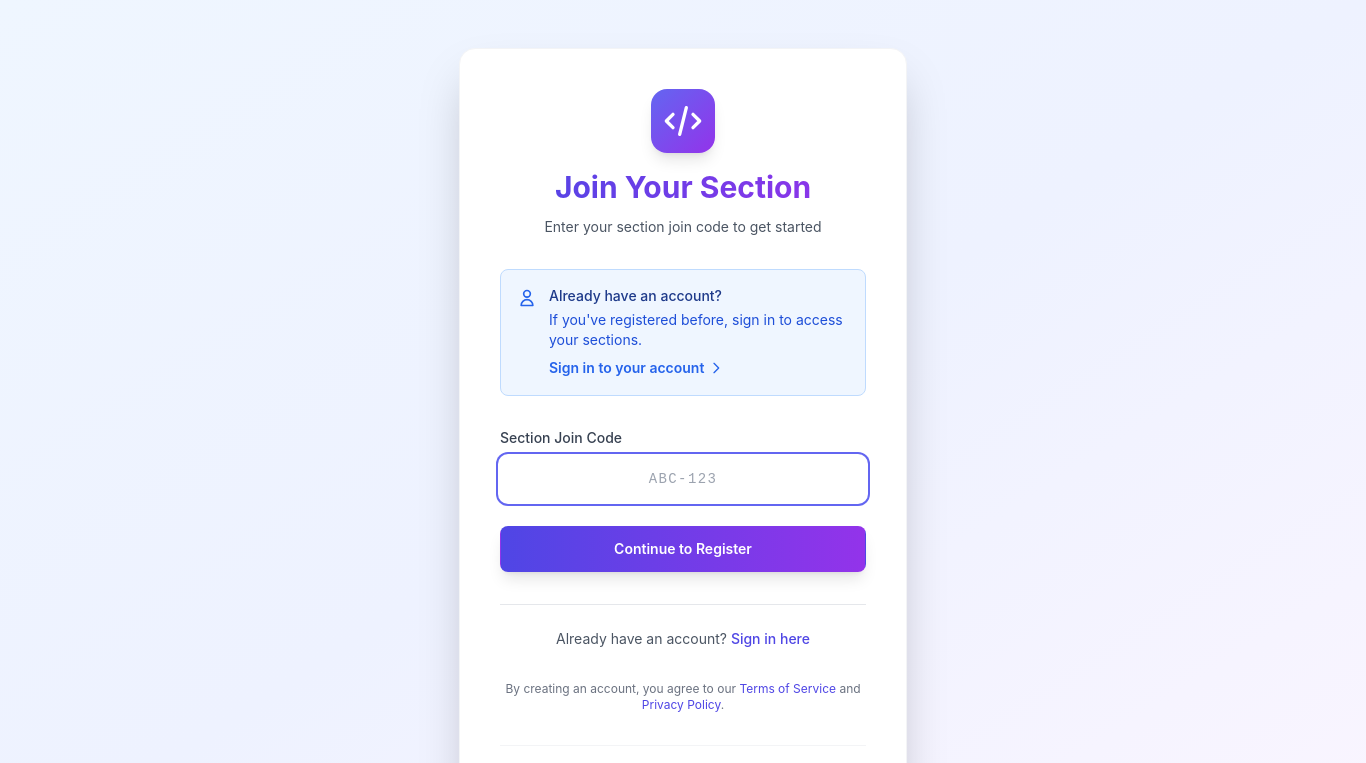
Test: StudentRegistrationPage › Code Validation › shows error for invalid code
Type "ABC123" into the field with placeholder "ABC-123". click: (683, 479)
box: [500,456,866,502]
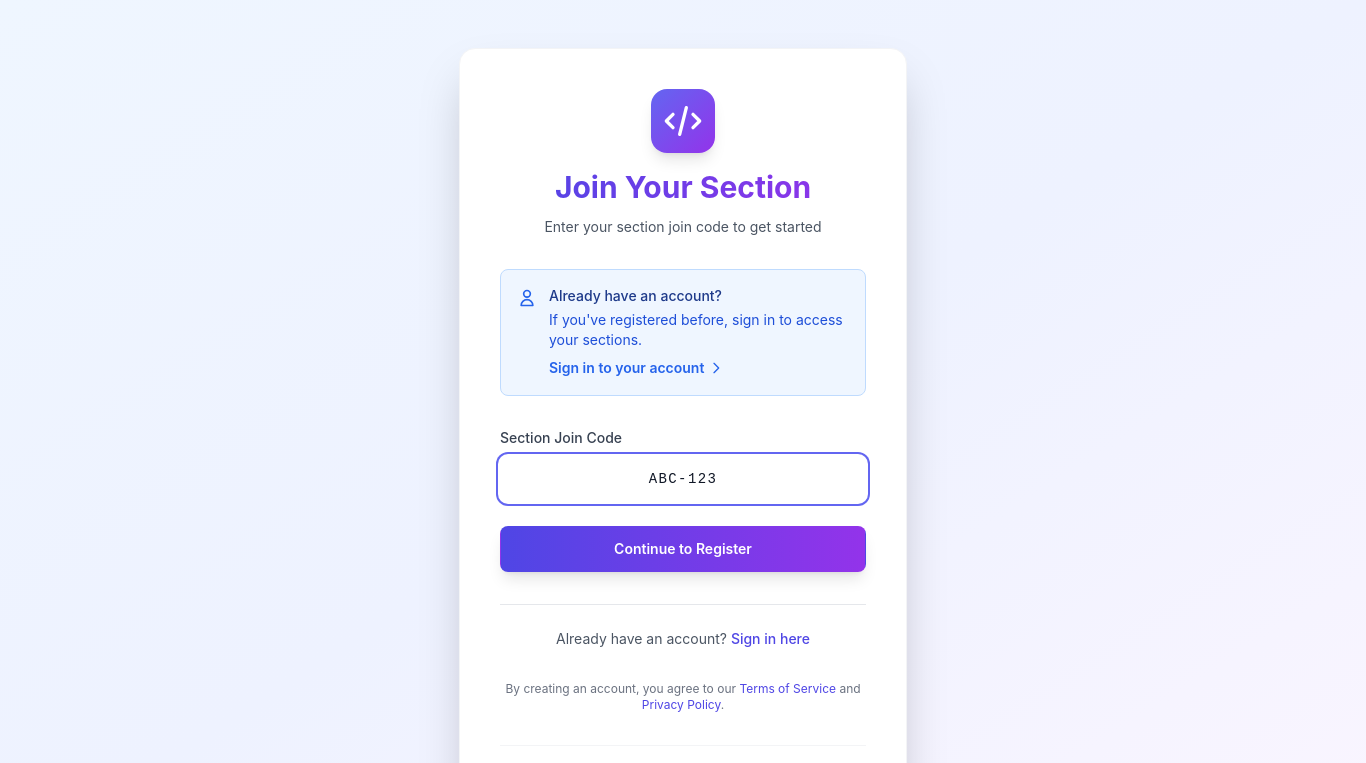
Click the button "Continue to Register". click: (683, 549)
box: [500,526,866,572]
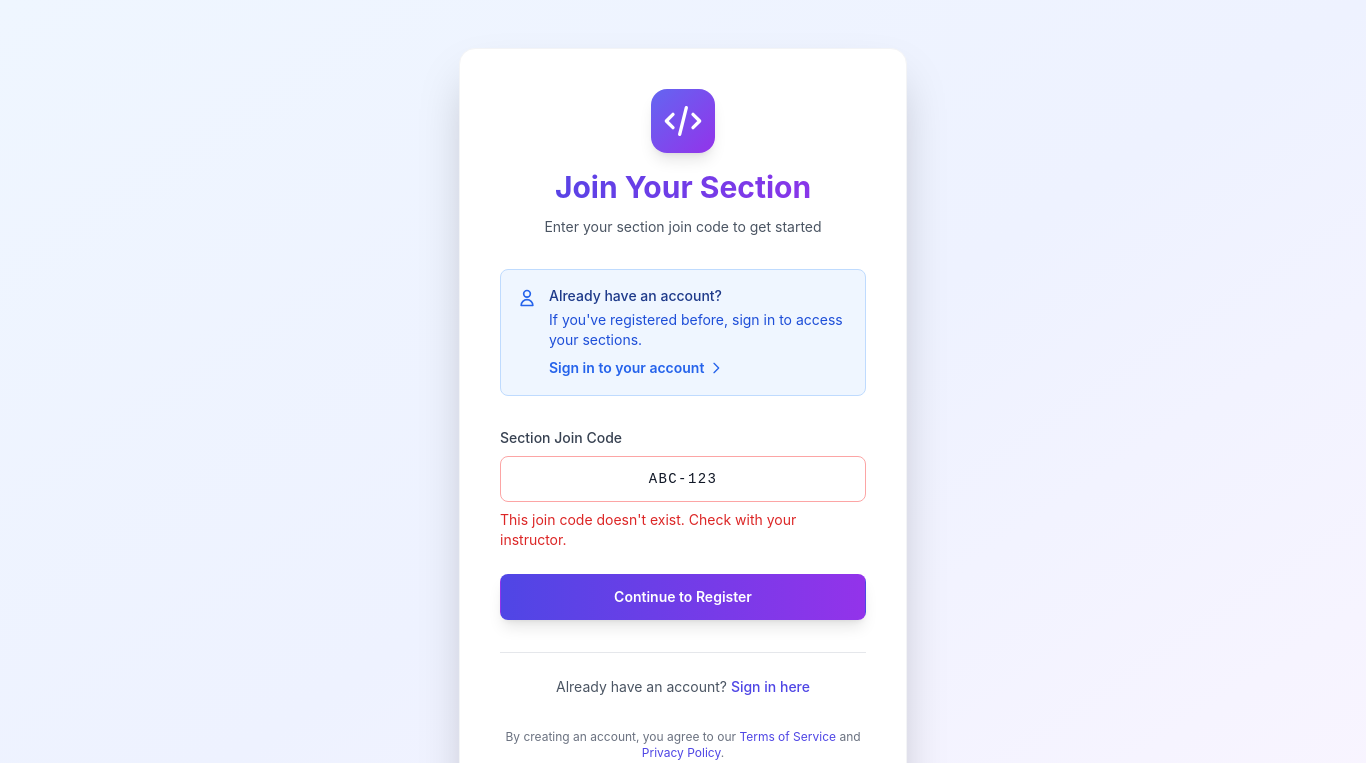
Expected: the text "This join code doesn't exist. Check with your instructor." is shown, [500,511,796,548]
